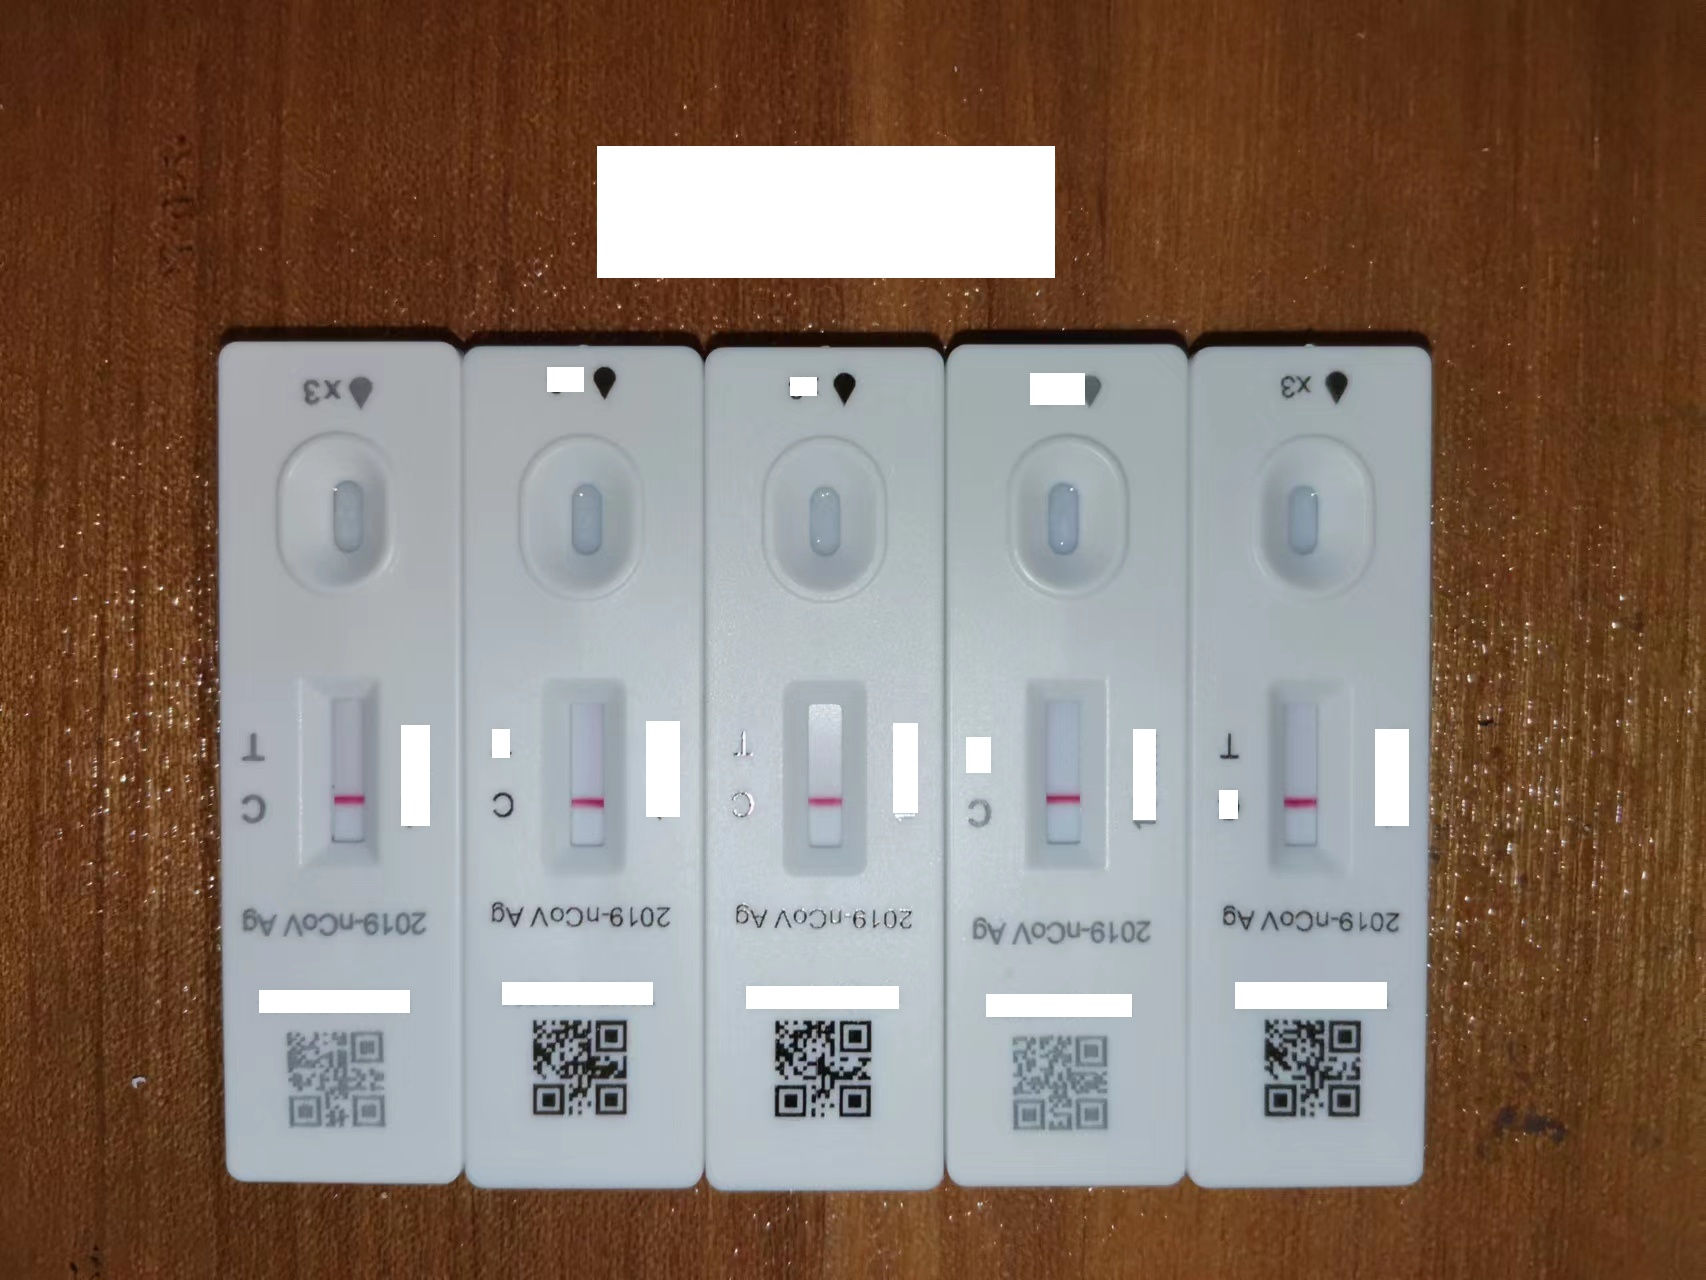negative: (294, 675, 378, 873), (540, 680, 626, 871), (1265, 680, 1347, 874), (781, 680, 864, 870), (1026, 679, 1106, 865)
